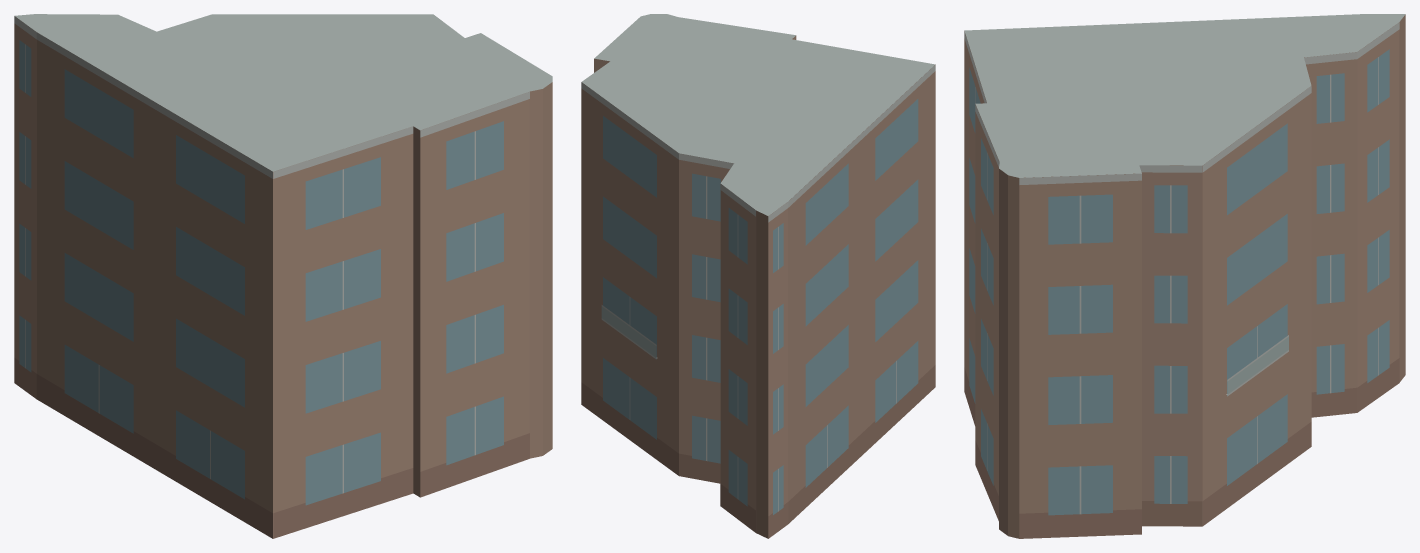
File: survey-upis-32756368.glb
The picture shows the model from 3 angles, left to right: view 1: azimuth 30°, elevation 25°; view 2: azimuth 150°, elevation 25°; view 3: azimuth 270°, elevation 25°; orthographic projection. The views are drawn at different scales.
Visible parts, largest first — view 1: survey-upis-32756368.tmp; view 2: survey-upis-32756368.tmp; view 3: survey-upis-32756368.tmp.
Part boxes in pixels (x1=…): survey-upis-32756368.tmp: x1=14, y1=14, x2=552, y2=538; survey-upis-32756368.tmp: x1=581, y1=14, x2=935, y2=538; survey-upis-32756368.tmp: x1=964, y1=14, x2=1405, y2=538.
Bounding box in the file's own units: 11.9 × 12.2 × 13.53.
